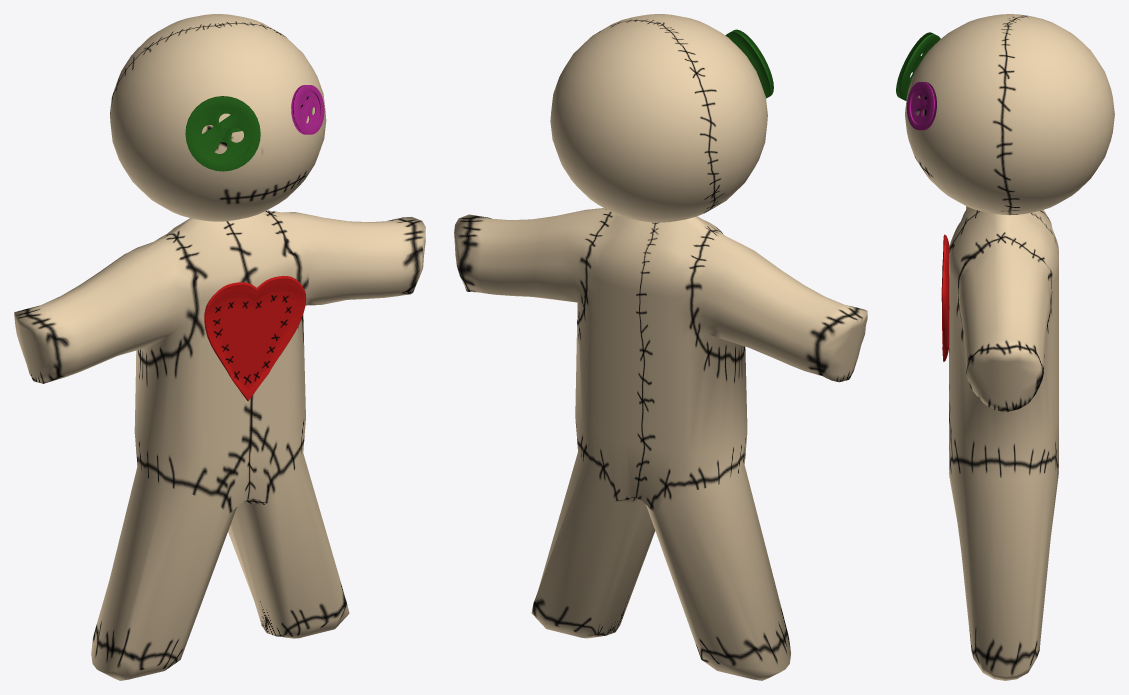
Rendered from voodoo_doll_v6.fbx.
3 views of the same model, side by side, from view 1: azimuth 30°, elevation 25°; view 2: azimuth 150°, elevation 25°; view 3: azimuth 270°, elevation 25° (orthographic). The views are drawn at different scales.
Parts seen in each view (by area): view 1: body, Head, Heart, right_eye, left_eye; view 2: body, Head, right_eye; view 3: body, Head, left_eye, right_eye, Heart.
Boxes of the visible parts, x1,y1,x2,y2 form: body: [14, 210, 425, 680]; Head: [110, 14, 326, 221]; Heart: [204, 276, 306, 400]; right_eye: [185, 96, 260, 171]; left_eye: [291, 85, 324, 134]; body: [454, 208, 867, 680]; Head: [550, 14, 767, 222]; right_eye: [725, 29, 773, 98]; body: [949, 206, 1058, 680]; Head: [905, 14, 1114, 215]; left_eye: [906, 82, 936, 130]; right_eye: [896, 32, 940, 100]; Heart: [941, 234, 949, 361].
Size of the model in its own units: 113 by 167 by 54.72.
